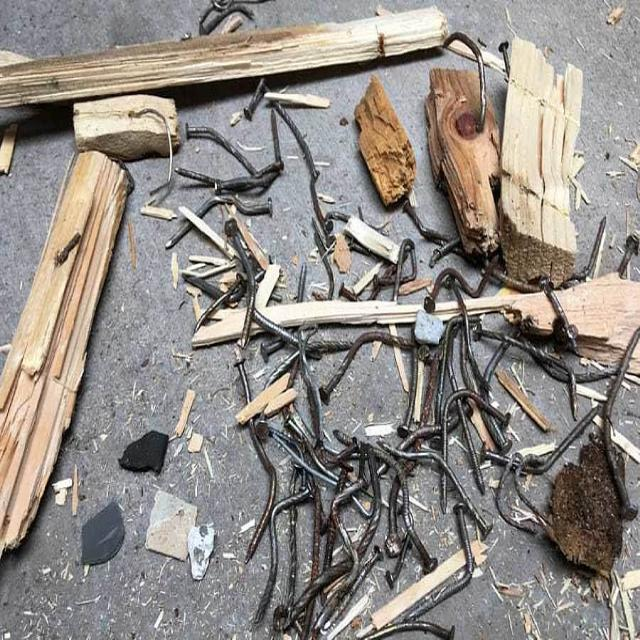Metal-Non-Biodegradable but recyclable-: (225, 315, 606, 640), (148, 100, 359, 314), (598, 332, 640, 525), (381, 216, 473, 297), (571, 209, 640, 284)
green waste: (0, 7, 449, 590), (498, 38, 586, 281), (424, 68, 499, 255), (350, 63, 424, 210), (565, 279, 637, 364)
